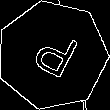P_SW: (24, 24, 81, 86)
